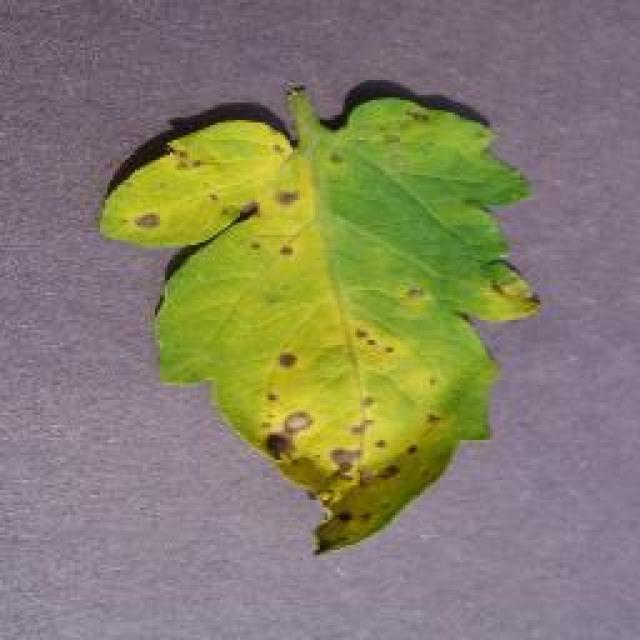Tomato___Septoria_leaf_spot: (100, 90, 538, 550)
